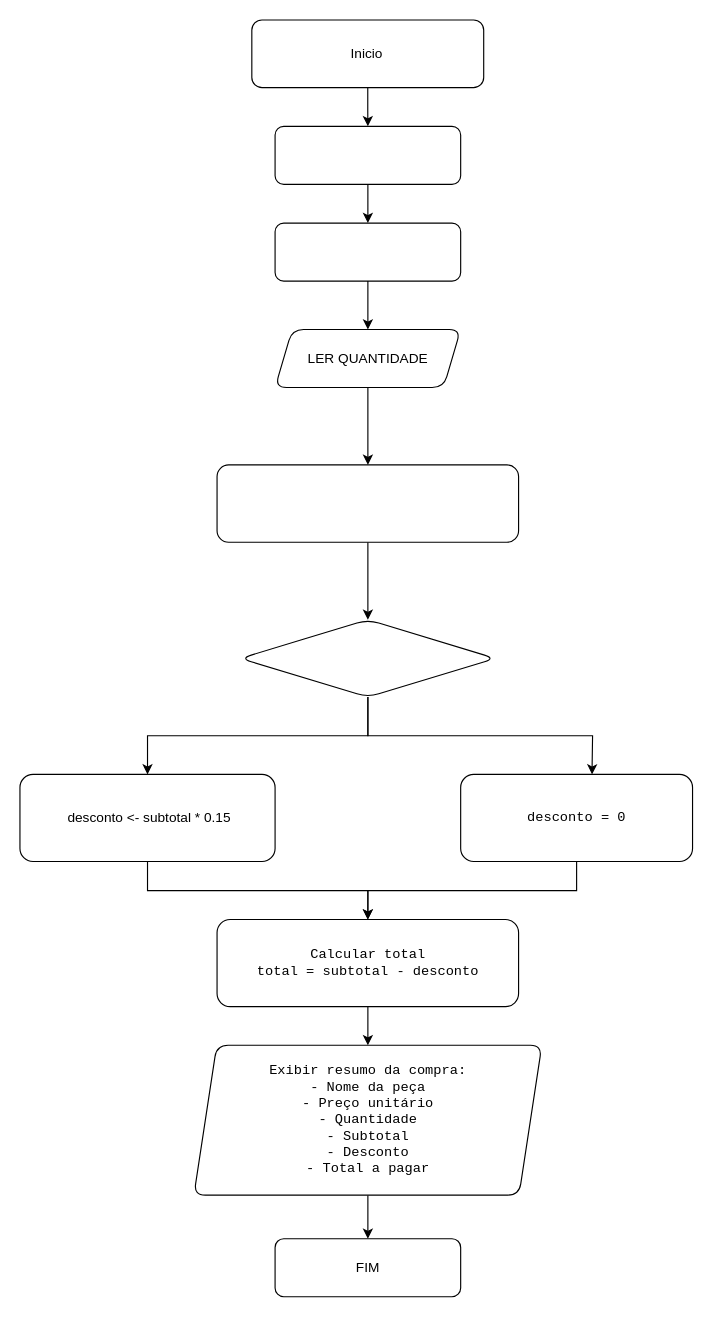
This 713x1317 diagram has some shape labels left out. The shapes that lost their labels are listed below. From the top down, each one's box as (x1, y1, x2, y2) in pixels, then its label:
(274, 125, 461, 184): LER O NOME DA PEÇA
(274, 222, 461, 281): LER PREÇO UNITARIO
(216, 464, 519, 542): Calcular subtotal subtotal = preço * quantidade
(239, 619, 495, 697): Quantidade >= 3?
